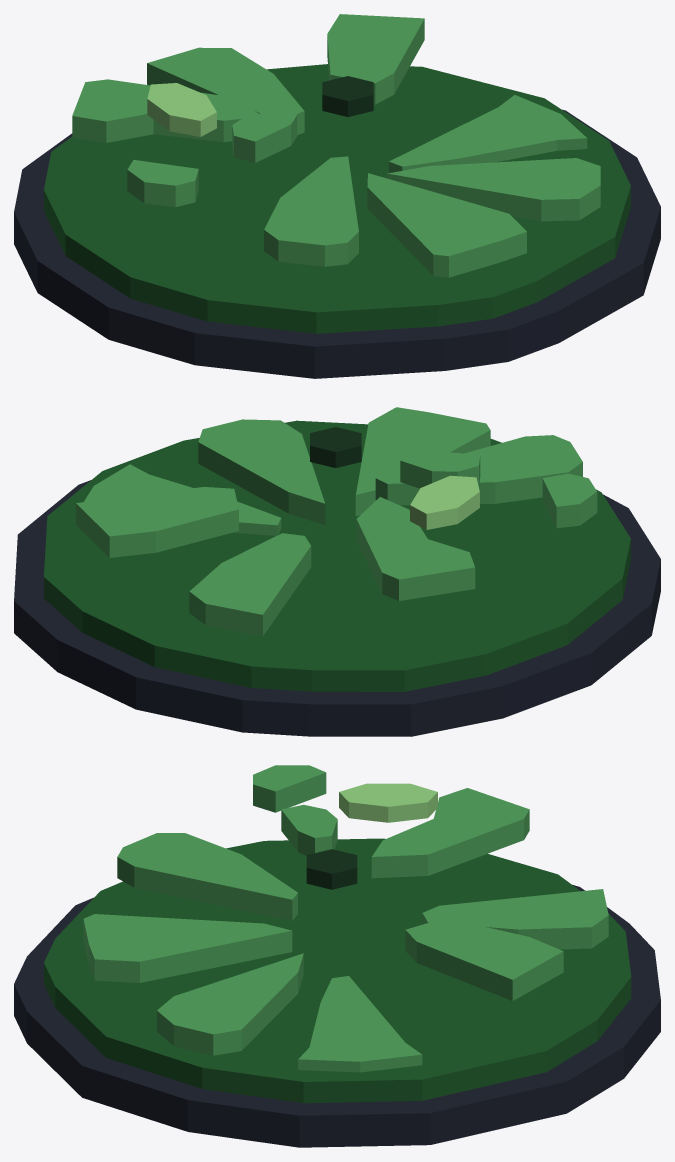
The model's file is watermelon.fbx.
The picture shows the model from 3 angles, top to bottom: view 1: azimuth 30°, elevation 25°; view 2: azimuth 150°, elevation 25°; view 3: azimuth 270°, elevation 25°; orthographic projection.
Parts seen in each view (by area): view 1: watermelon; view 2: watermelon; view 3: watermelon.
Boxes of the visible parts, x1,y1,x2,y2 form: watermelon: (14, 14, 660, 378); watermelon: (14, 407, 660, 736); watermelon: (14, 765, 660, 1147).
Bounding box in the file's own units: 1.08 × 0.29 × 1.1.
Materials: 1 (1 with a texture image).
